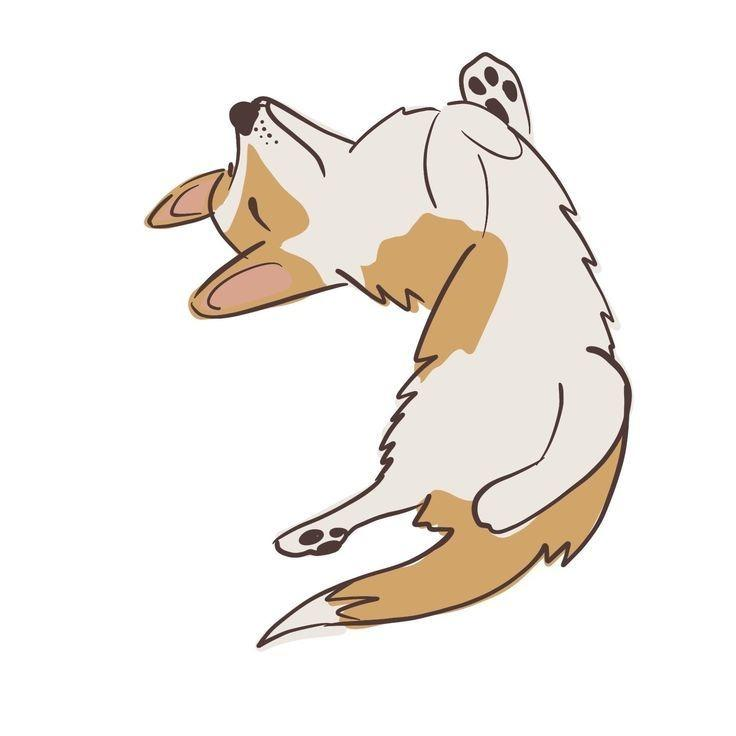adult_dog: (147, 51, 633, 649)
